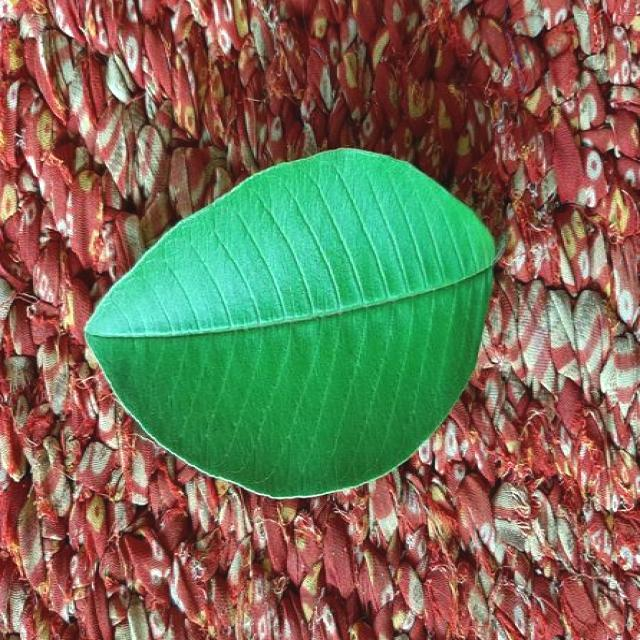leaf: (82, 145, 497, 499)
